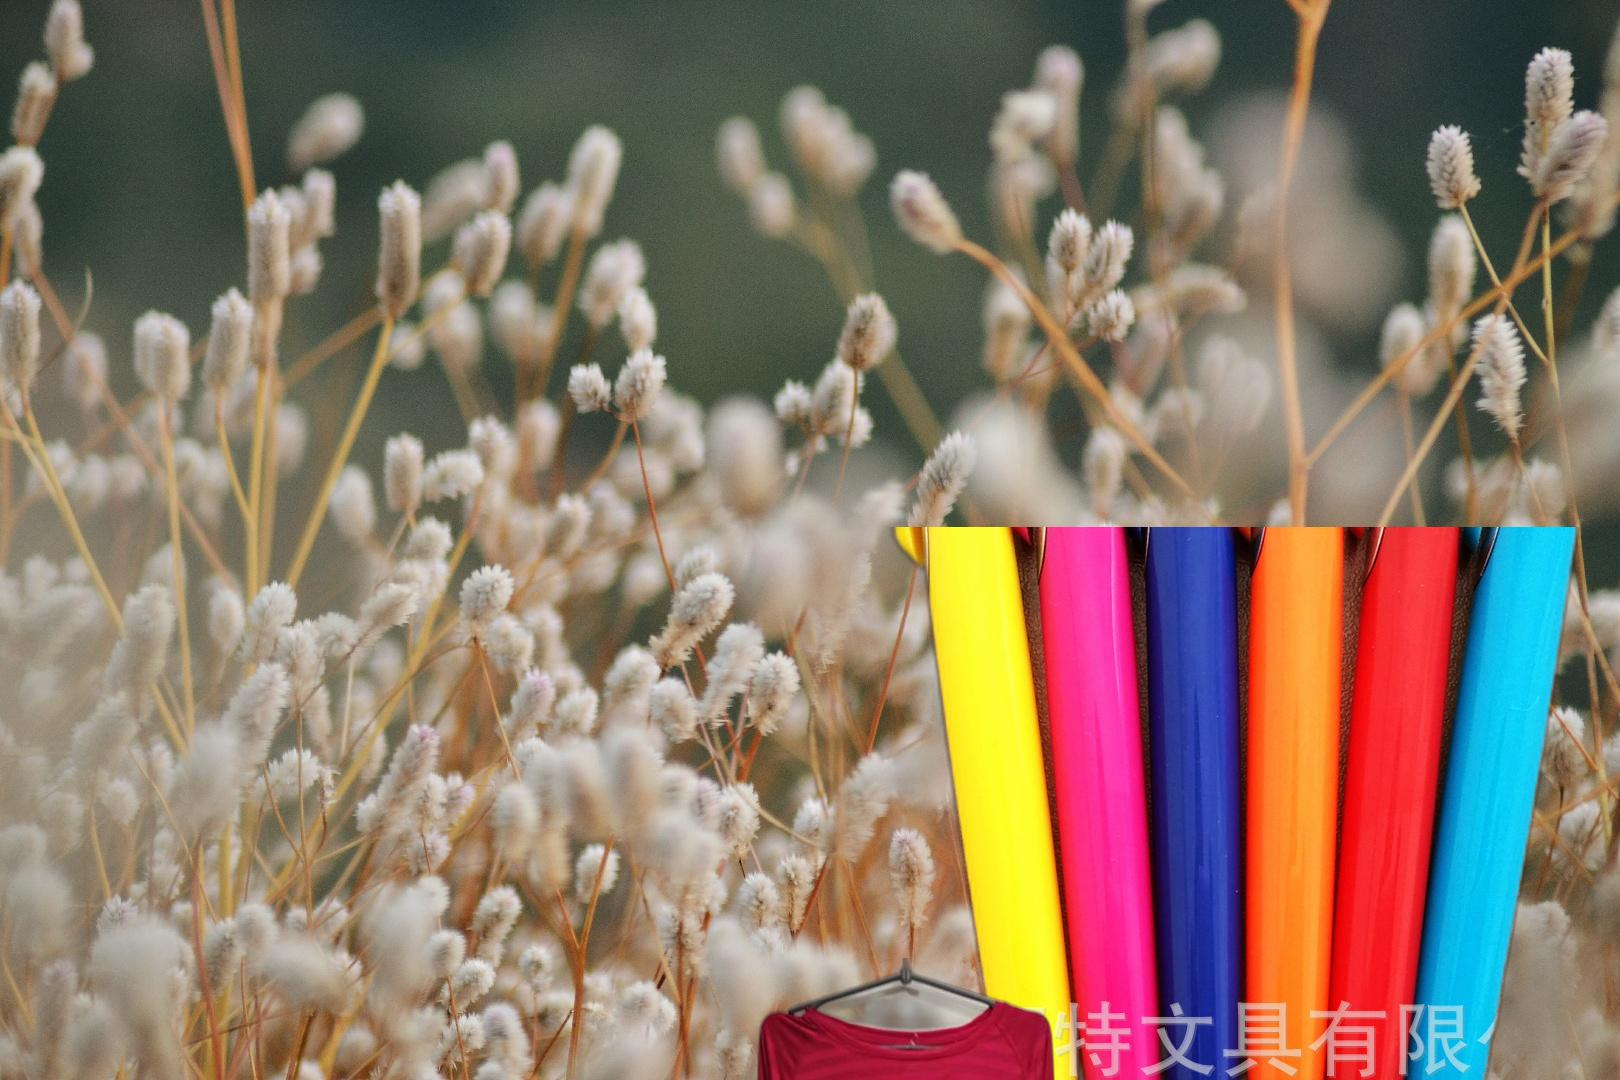clothes: (755, 958, 1068, 1080)
penholder: (882, 527, 1586, 1080)
